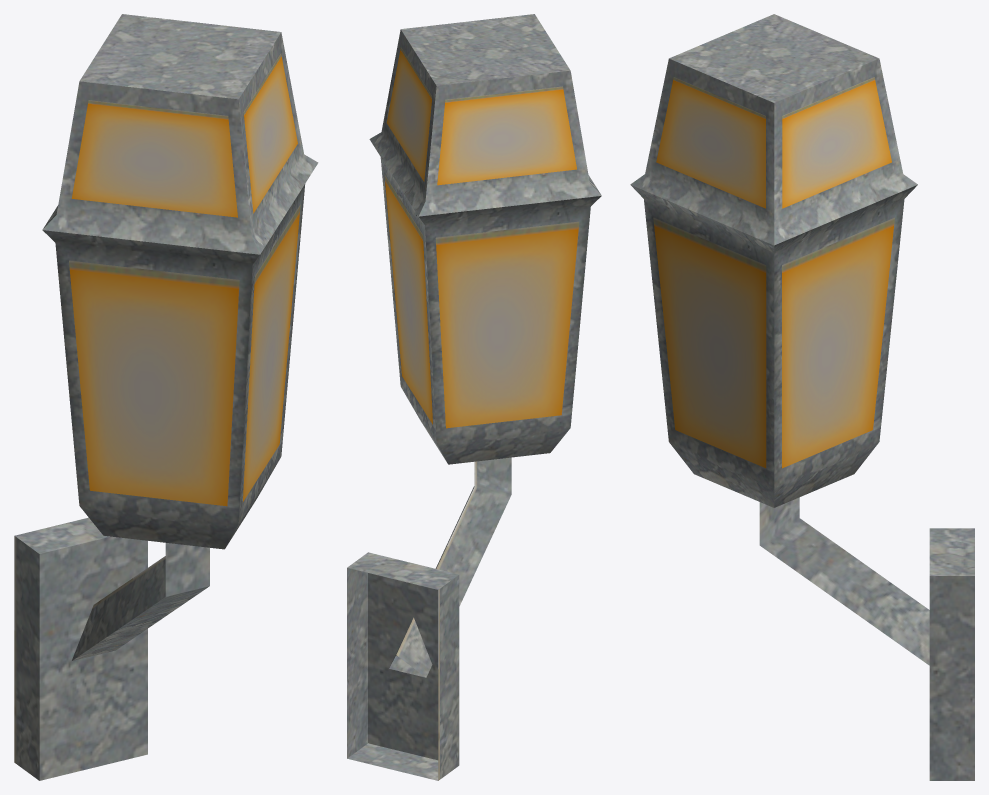
File: Light-Fancy.fbx
3 renders of one model, left to right at view 1: azimuth 30°, elevation 25°; view 2: azimuth 150°, elevation 25°; view 3: azimuth 270°, elevation 25°, orthographic. The views are drawn at different scales.
Parts seen in each view (by area): view 1: Light-Fancy; view 2: Light-Fancy; view 3: Light-Fancy.
Part boxes in pixels (left/top/right/bottom): Light-Fancy: left=14, top=14, right=318, bottom=780; Light-Fancy: left=347, top=14, right=601, bottom=780; Light-Fancy: left=630, top=14, right=974, bottom=780.
Bounding box in the file's own units: 40.48 × 108 × 48.44.
